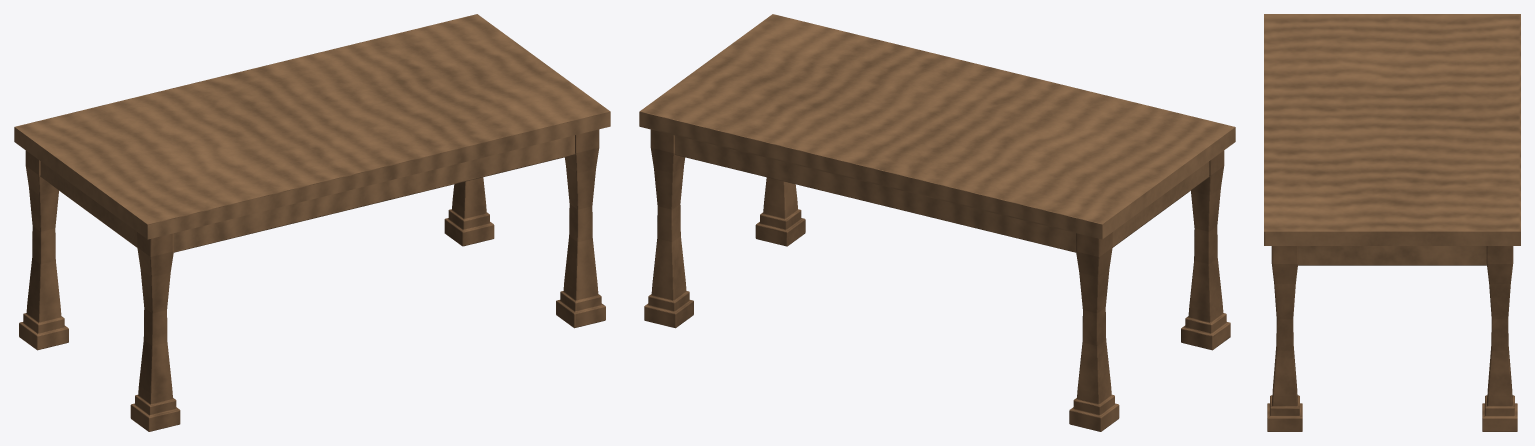
The model's file is mesa casa.fbx.
3 views of the same model, side by side, from view 1: azimuth 30°, elevation 25°; view 2: azimuth 150°, elevation 25°; view 3: azimuth 270°, elevation 25° (orthographic). The views are drawn at different scales.
Visible parts, largest first — view 1: Tablero, Faldon_frontal, Pata_del_izq, Pata_del_der, Pata_tras_izq, Pata_tras_der, Faldon_lateral_izq; view 2: Tablero, Faldon_posterior, Pata_tras_izq, Pata_tras_der, Pata_del_izq, Pata_del_der, Faldon_lateral_izq; view 3: Tablero, Pata_del_der, Pata_tras_der, Faldon_lateral_der.
Part boxes in pixels (x1,y1,x2,y2): Tablero: [14, 14, 610, 239]; Faldon_frontal: [174, 135, 575, 252]; Pata_del_izq: [130, 232, 180, 431]; Pata_del_der: [556, 129, 605, 328]; Pata_tras_izq: [19, 150, 68, 350]; Pata_tras_der: [444, 177, 494, 246]; Faldon_lateral_izq: [40, 161, 137, 247]; Tablero: [639, 14, 1235, 239]; Faldon_posterior: [674, 135, 1075, 252]; Pata_tras_izq: [1069, 232, 1119, 431]; Pata_tras_der: [644, 129, 693, 328]; Pata_del_izq: [1181, 150, 1230, 350]; Pata_del_der: [755, 177, 805, 246]; Faldon_lateral_izq: [1112, 161, 1209, 247]; Tablero: [1264, 14, 1520, 245]; Pata_del_der: [1267, 246, 1302, 431]; Pata_tras_der: [1482, 246, 1517, 431]; Faldon_lateral_der: [1298, 246, 1486, 265].
Size of the model in its own units: 180 by 77.8 by 89.6.
2 materials, 2 textured.
